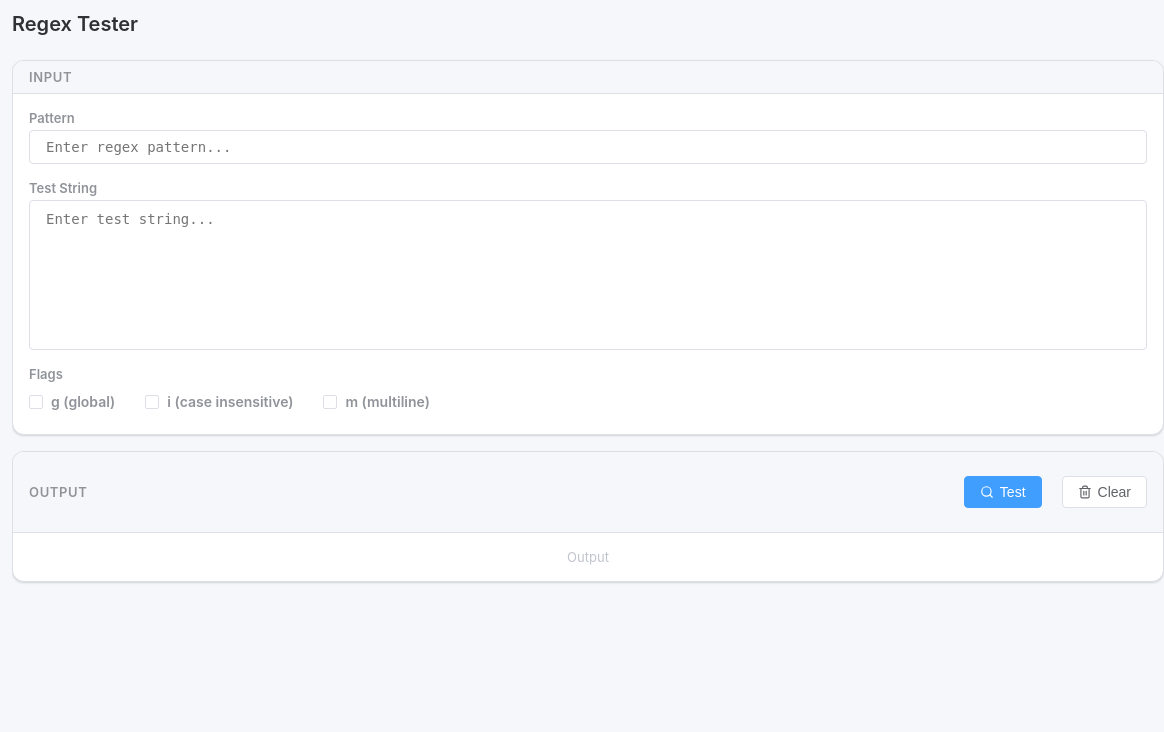
Test: RegexTester › should show no matches message
Type "\\d+" into the field with class "regex-input" at (588, 147), box x1=29 y1=130 x2=1147 y2=164
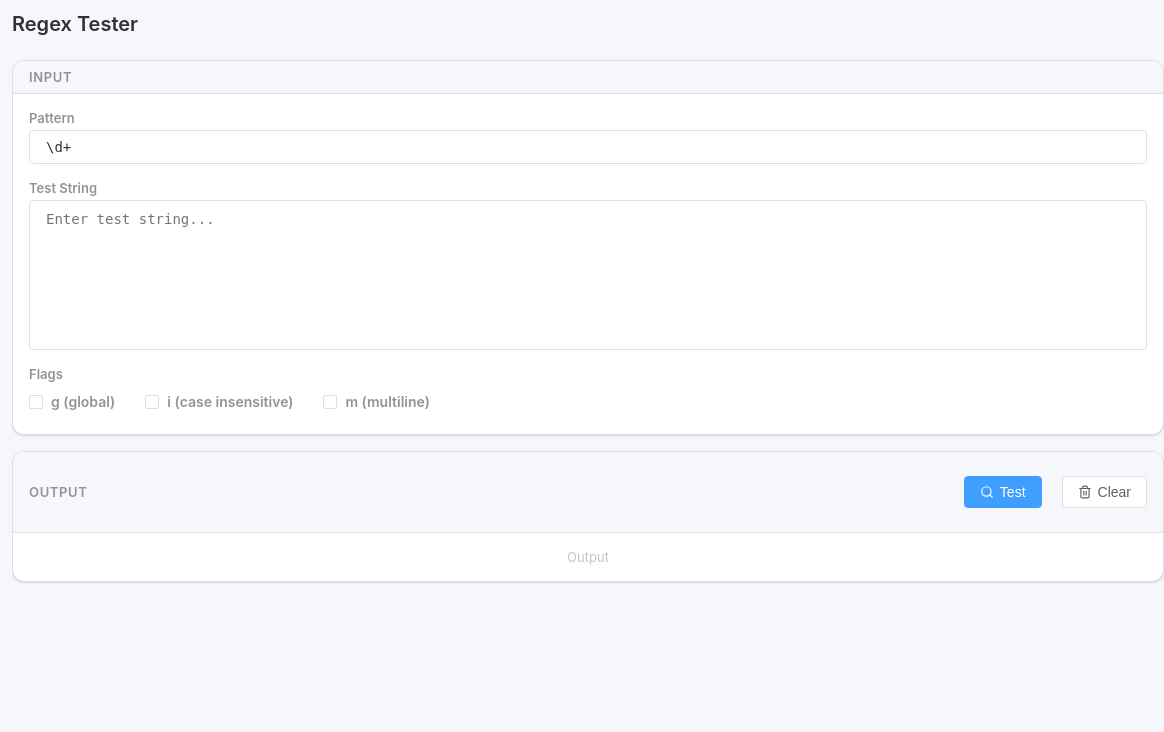
Type "no numbers here" into the text box with class "test-input" at (588, 275), box x1=29 y1=200 x2=1147 y2=350
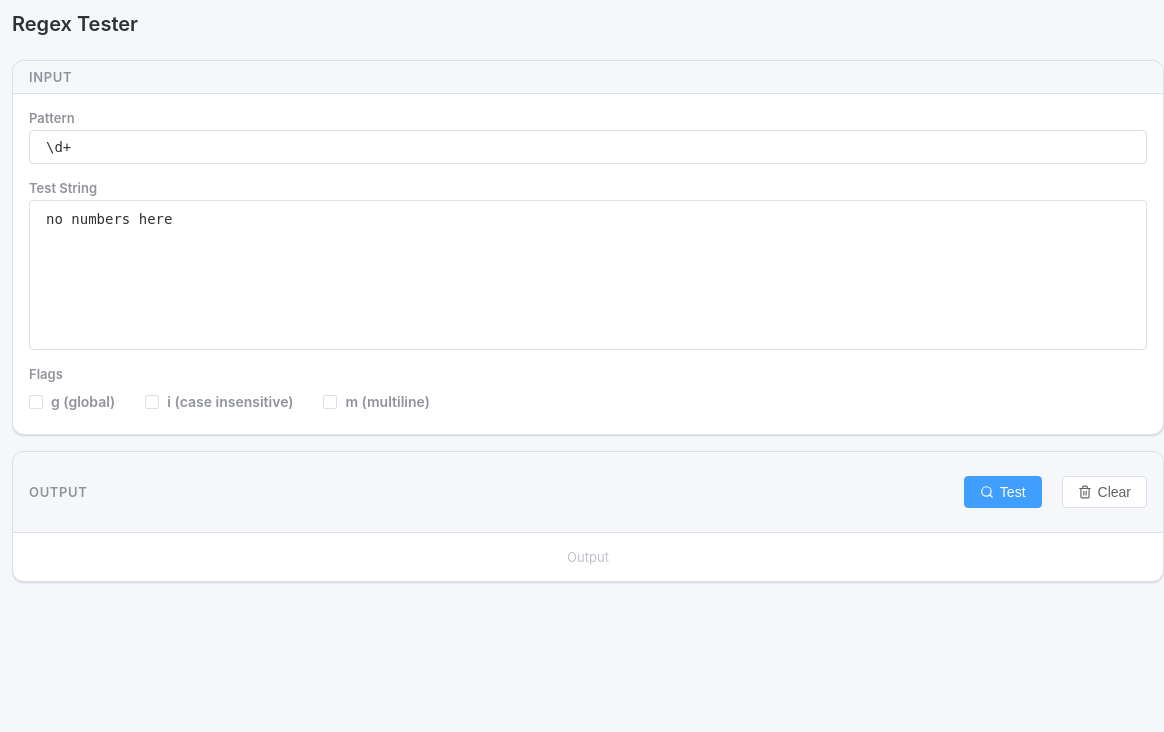
Click the button "Test" at (1003, 492), box x1=964 y1=476 x2=1042 y2=508
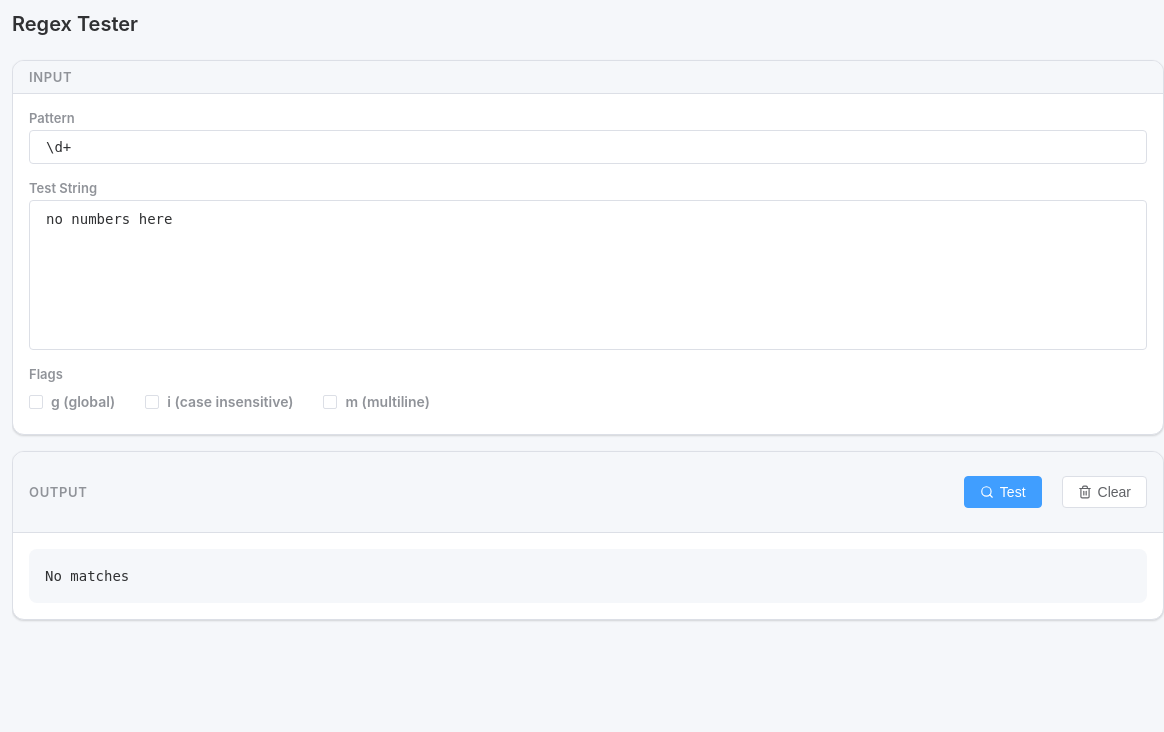
Expected: the element with class "code-content" reads "No matches", x1=45 y1=568 x2=129 y2=584
